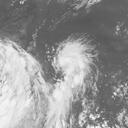cyclone: (55, 40, 94, 75)
